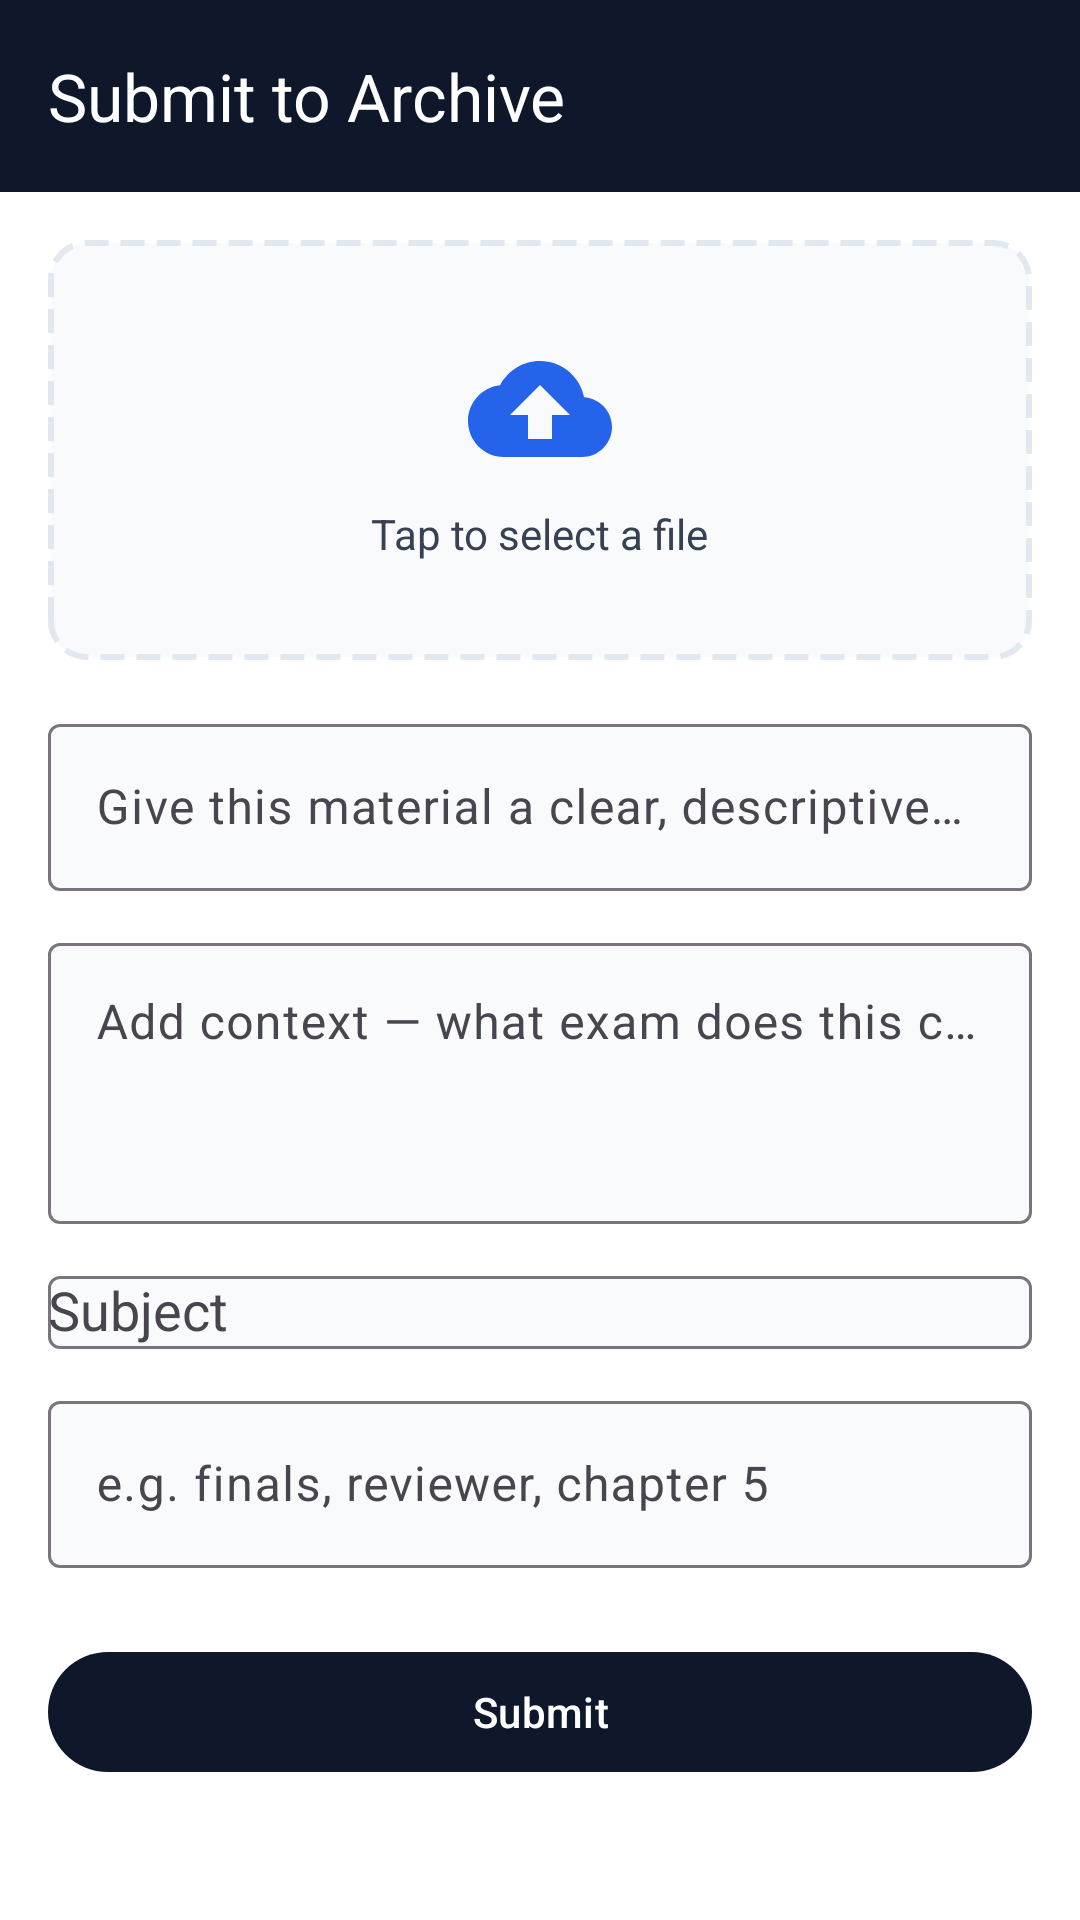

Screen size 1080px x 1920px. Icon name, then its center in pixels as [x,y]:
upload cloud: [540,409]
